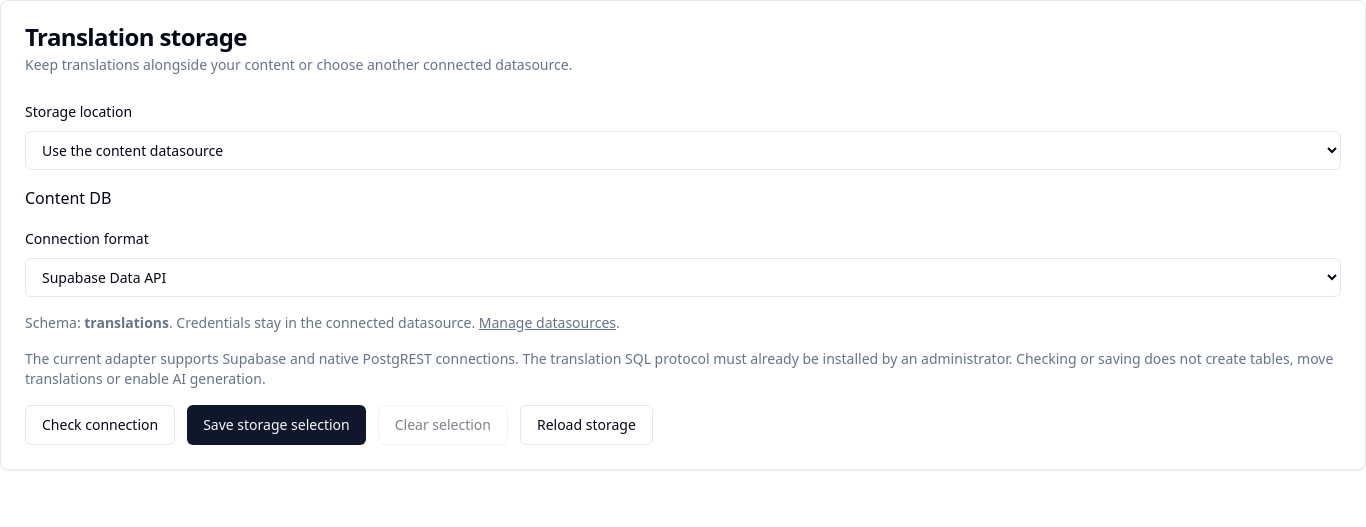
Test: Translation storage settings › saves with a revision and retains a stale selection until reload
This screenshot has width=1366, height=527.
Expected: the text "Content DB" is shown, x1=25 y1=187 x2=111 y2=209
Step 1. Click the button "Save storage selection" → [276, 425], box x1=187 y1=405 x2=366 y2=445
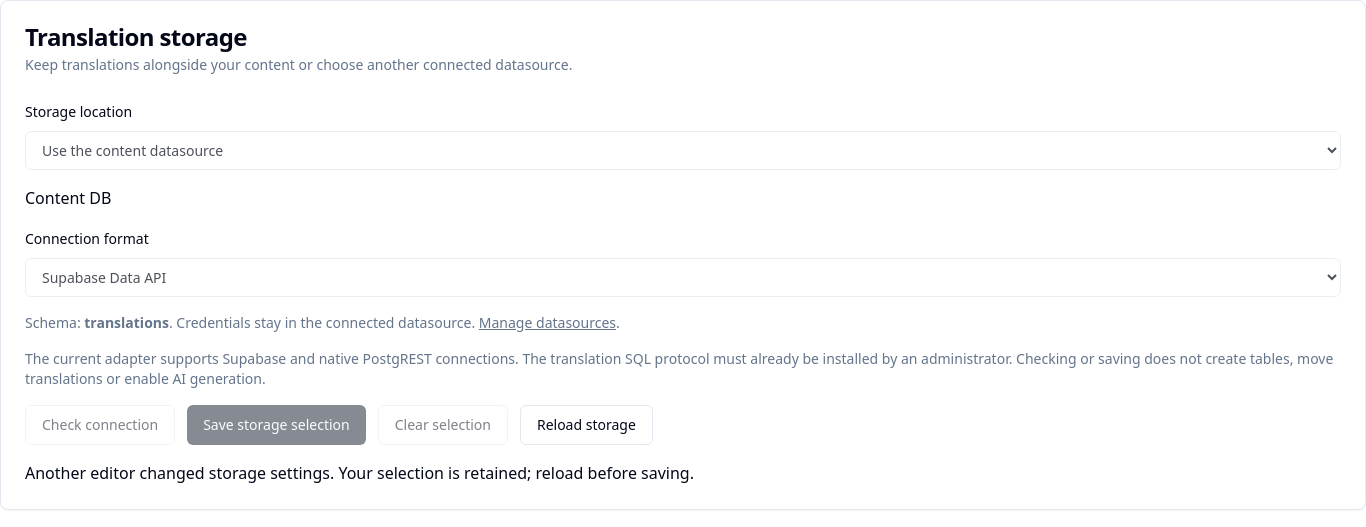
Expected: the dropdown labelled "Storage location" shows "Use the content datasource", x1=25 y1=131 x2=1341 y2=170
Now the text "Another editor changed" is shown, box x1=25 y1=462 x2=694 y2=484
Now the button "Save storage selection" is disabled, box x1=187 y1=405 x2=366 y2=445
